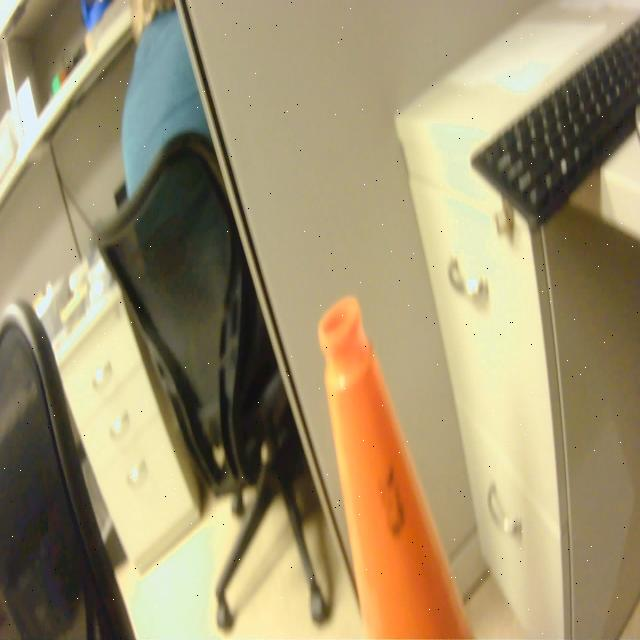traffic cone: (314, 288, 482, 640)
